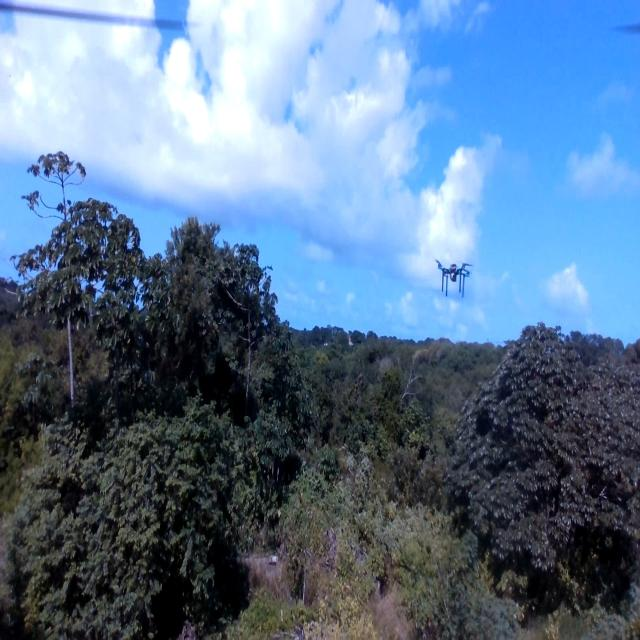-uav-: (426, 237, 485, 323)
